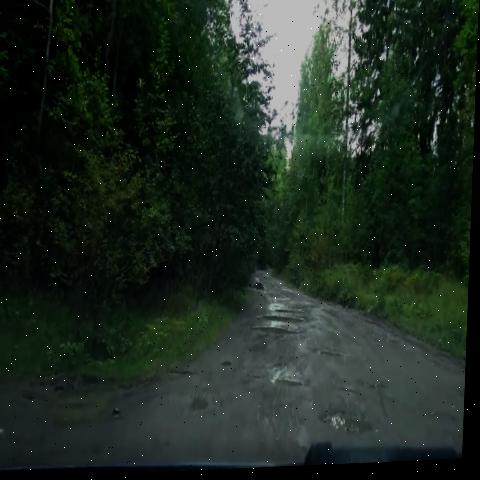pothole: (310, 396, 383, 450), (267, 358, 314, 405), (247, 311, 309, 339), (243, 323, 306, 350), (269, 292, 306, 323), (188, 390, 219, 426), (315, 346, 345, 375), (216, 355, 237, 388), (248, 276, 271, 304)
